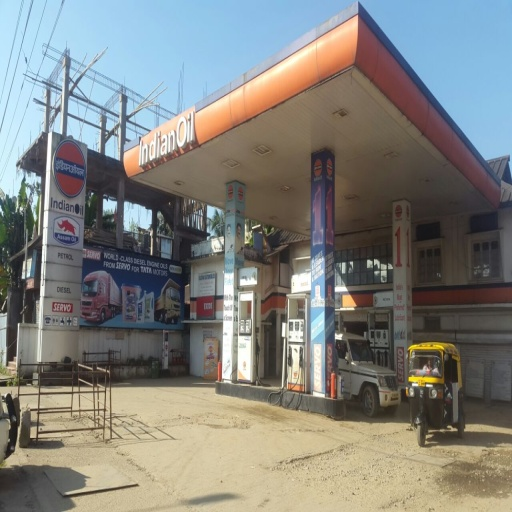roof: (116, 4, 503, 237)
